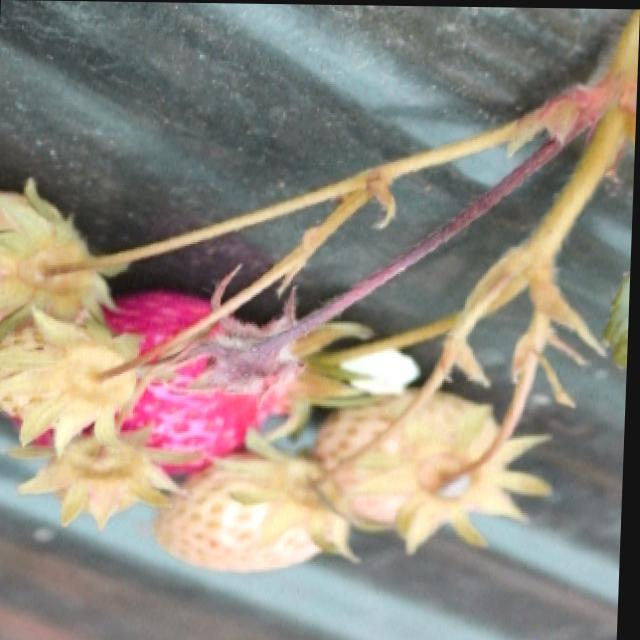Gray Mold: (161, 265, 310, 413)
